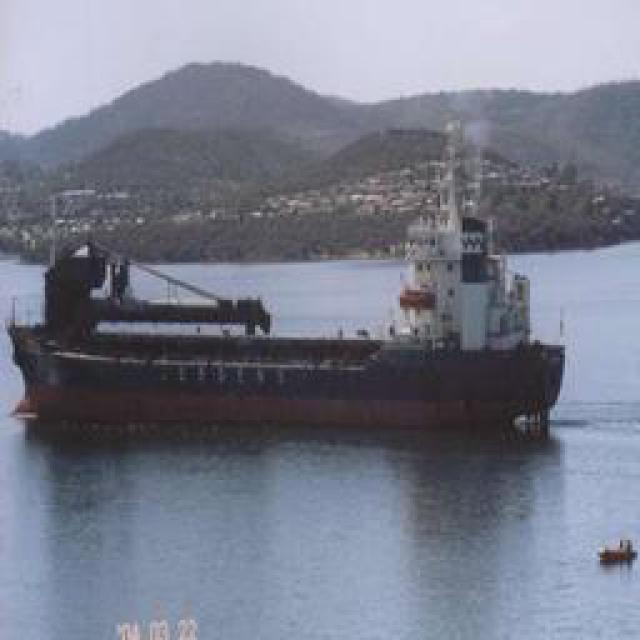Ship: (27, 242, 535, 440)
